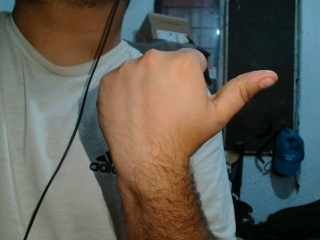Izquierda: (87, 41, 282, 170)
